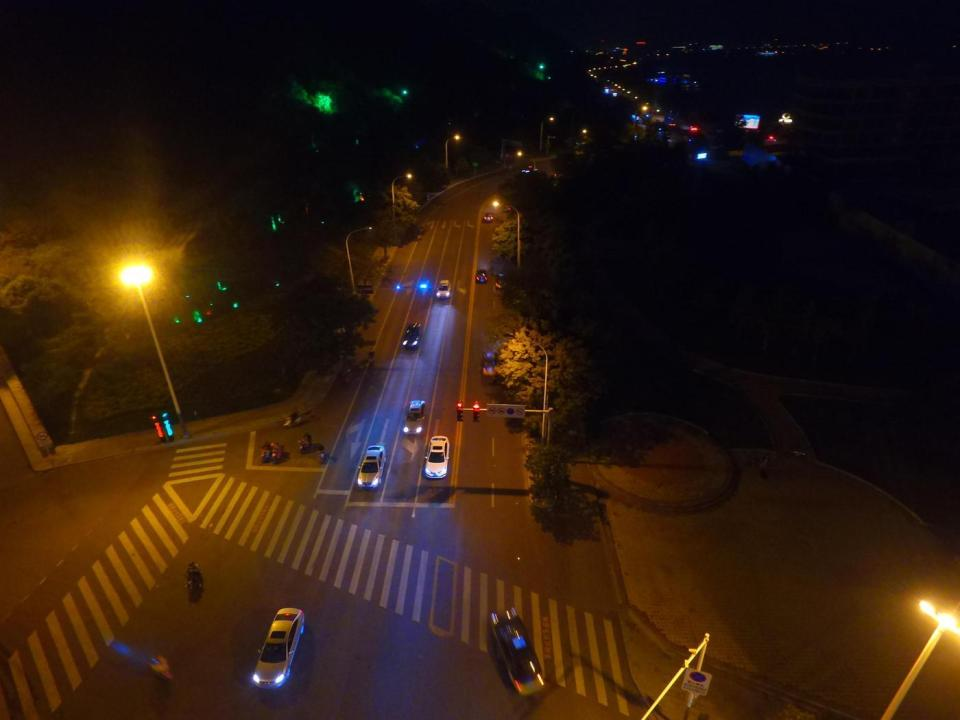car: (489, 609, 543, 694), (254, 608, 305, 688), (357, 446, 386, 490), (423, 435, 449, 479), (402, 399, 426, 436), (401, 322, 421, 349), (480, 351, 499, 378), (436, 278, 452, 300), (475, 269, 488, 283), (496, 274, 506, 292), (521, 166, 538, 174), (483, 211, 492, 224), (502, 201, 511, 213)
